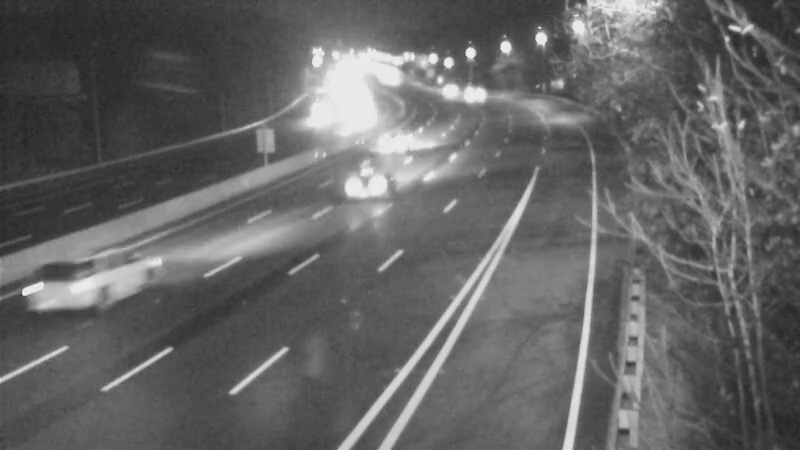vehicle: (334, 140, 414, 220), (16, 252, 96, 332), (423, 62, 473, 112), (448, 68, 498, 118), (369, 121, 419, 171), (296, 89, 346, 139)
